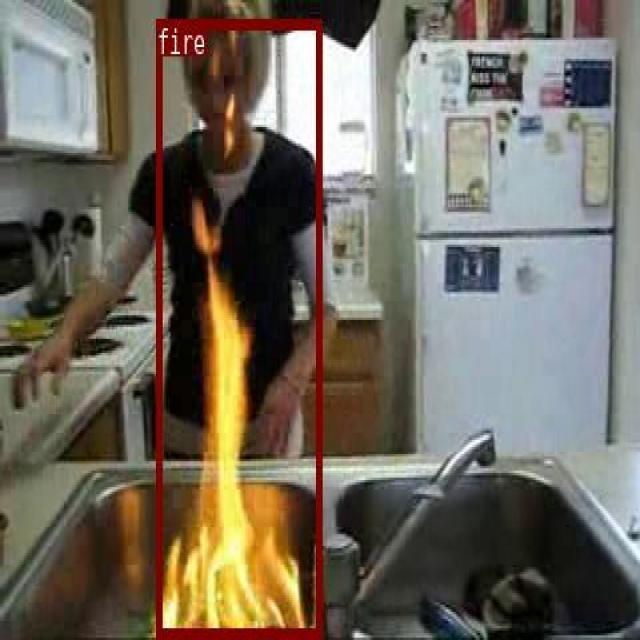fire: (156, 18, 320, 636)
